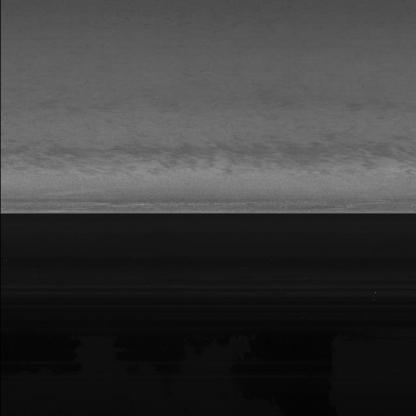silk_spot: (148, 137, 255, 178)
